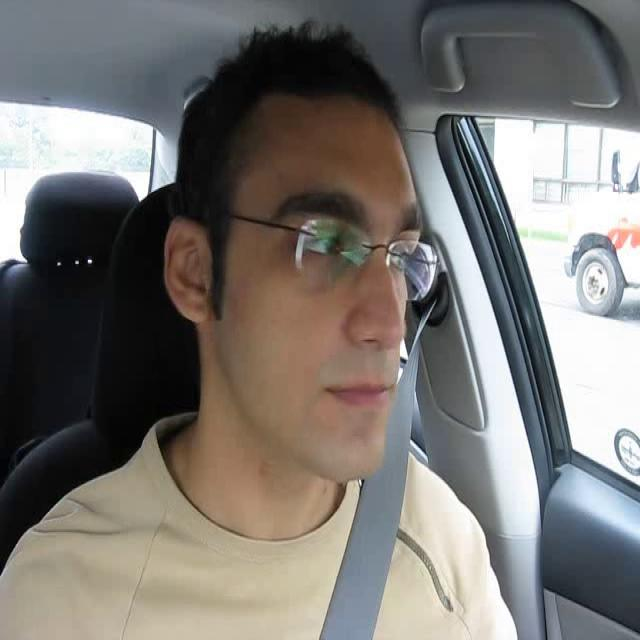close: (317, 374, 397, 416)
